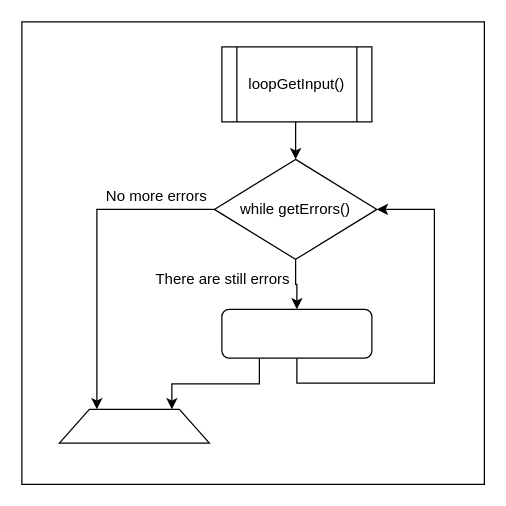
Image size: 506x506. Some labels were removed from this diagram. Here are the shapes that lost their labels. From the top down, the centre of each, then its label:
At (x=296, y=333): "getInput()".
At (x=133, y=425): "return".
